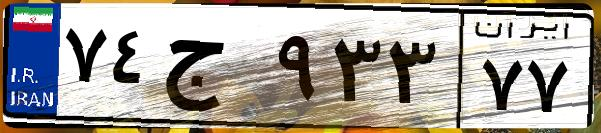3: (385, 28, 445, 110), (330, 28, 385, 110)
4: (110, 28, 158, 98)
7: (57, 26, 110, 100), (475, 38, 525, 113), (525, 38, 570, 115)
9: (270, 28, 330, 110)
ج: (158, 20, 270, 120)
